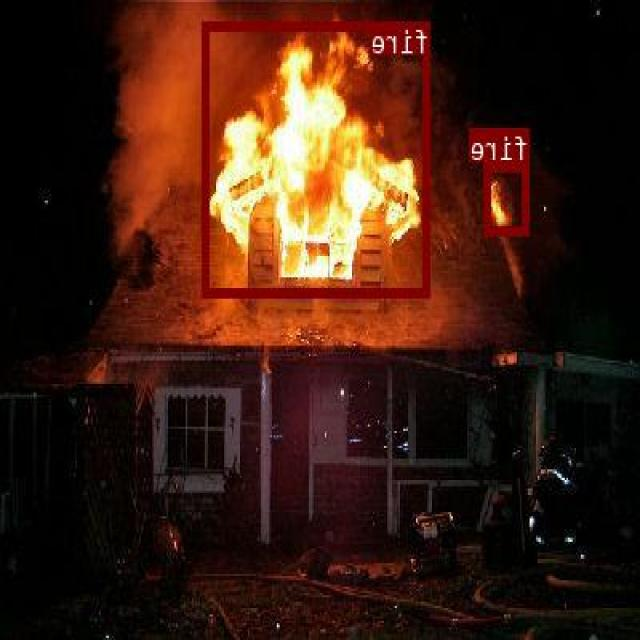fire: (203, 20, 431, 296), (486, 162, 530, 233)
